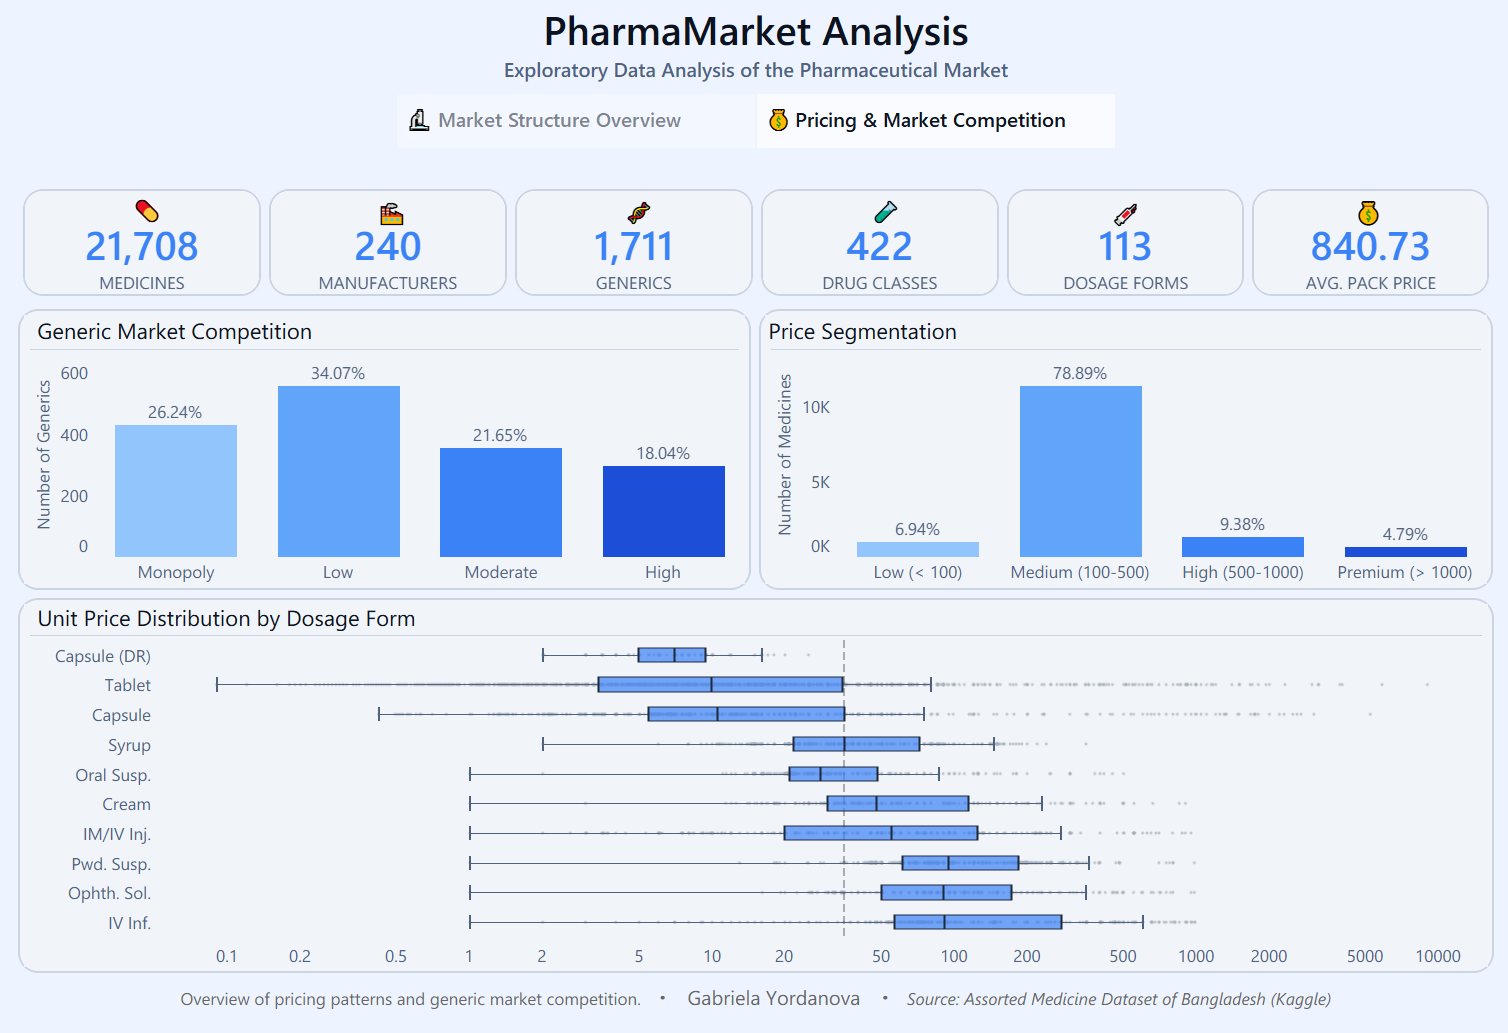

What the dashboard file says about the page in this screenshot:
{"tool":"tableau","page":{"name":"Pricing & Market Competition","canvas":[1500,850],"ordinal":1},"visuals":[{"type":"worksheet","title":"KPI_Medicines","mark":"Automatic","box":[13,13,246,115]},{"type":"worksheet","title":"KPI_Manufacturers","mark":"Automatic","box":[259,13,246,115]},{"type":"worksheet","title":"KPI_Generics","mark":"Automatic","box":[505,13,246,115]},{"type":"worksheet","title":"KPI_DrugClasses","mark":"Automatic","box":[751,13,246,115]},{"type":"worksheet","title":"KPI_DosageForms","mark":"Automatic","box":[997,13,245,115]},{"type":"worksheet","title":"KPI_AvgPackPrice","mark":"Automatic","box":[1242,13,245,115]},{"type":"text","box":[363.2,24,46.1,37]},{"type":"text","box":[124.3,25,33.2,28]},{"type":"text","box":[859.3,25,41.8,30]},{"type":"text","box":[1345.7,25,33.2,33]},{"type":"text","box":[615,28,36.4,27]},{"type":"text","box":[1097.1,29,45,28]},{"type":"text","box":[14,139,729.5,38]},{"type":"text","box":[755.5,139,730.5,38]},{"type":"blank","box":[14,177,729.5,1]},{"type":"blank","box":[755.5,177,730.5,1]},{"type":"worksheet","title":"Chart_GenericCompetition","mark":"Automatic","rows":["generic_id"],"cols":["Calculation_0107800379985927"],"box":[14,178,729.5,238.4]},{"type":"worksheet","title":"Chart_PriceSegmentation","mark":"Automatic","rows":["pack_price"],"cols":["Calculation_0107800371609601"],"box":[755.5,178,730.5,238.4]},{"type":"text","box":[14,428.4,1472,35]},{"type":"blank","box":[14,463.4,1472,1]},{"type":"worksheet","title":"Chart_UnitPriceByDosageForm","mark":"Circle","rows":["dosage_form_name"],"cols":["unit_price"],"box":[14,464.4,1472,334.6]},{"type":"text","box":[8,805,1484,37]}]}

Visuals, with their boxes on the page's 1500x850 design canvas (x1, y1, x2, y2). These are canvas units, not pixel positions in the 1508x1033 screenshot, which may show the page scaled, cropped or inside an application window:
"KPI_Medicines" worksheet: select_region(13, 13, 259, 128)
"KPI_Manufacturers" worksheet: select_region(259, 13, 505, 128)
"KPI_Generics" worksheet: select_region(505, 13, 751, 128)
"KPI_DrugClasses" worksheet: select_region(751, 13, 997, 128)
"KPI_DosageForms" worksheet: select_region(997, 13, 1242, 128)
"KPI_AvgPackPrice" worksheet: select_region(1242, 13, 1487, 128)
text: select_region(363, 24, 409, 61)
text: select_region(124, 25, 158, 53)
text: select_region(859, 25, 901, 55)
text: select_region(1346, 25, 1379, 58)
text: select_region(615, 28, 651, 55)
text: select_region(1097, 29, 1142, 57)
text: select_region(14, 139, 744, 177)
text: select_region(756, 139, 1486, 177)
blank: select_region(14, 177, 744, 178)
blank: select_region(756, 177, 1486, 178)
"Chart_GenericCompetition" worksheet: select_region(14, 178, 744, 416)
"Chart_PriceSegmentation" worksheet: select_region(756, 178, 1486, 416)
text: select_region(14, 428, 1486, 463)
blank: select_region(14, 463, 1486, 464)
"Chart_UnitPriceByDosageForm" worksheet (Circle marks): select_region(14, 464, 1486, 799)
text: select_region(8, 805, 1492, 842)
